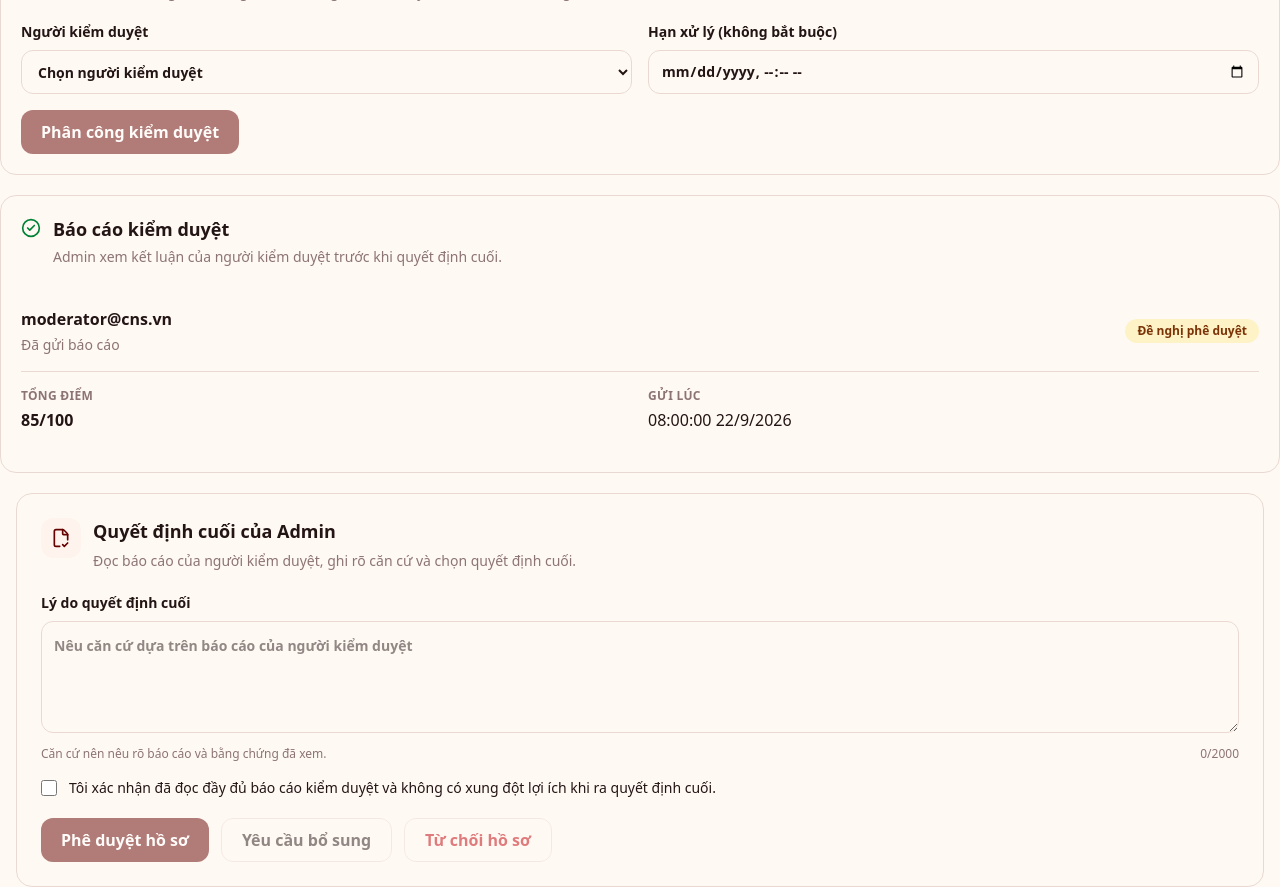
Test: ReviewLifecyclePanel › explains what follows a supplement request
(page scrolled)
Type "Vui lòng bổ sung tài liệu nguồn gốc." into the text box labelled "Lý do quyết định cuối".
click(640, 677); type("Vui lòng bổ sung tài liệu nguồn gốc.")  # box left=41, top=621, right=1239, bottom=733
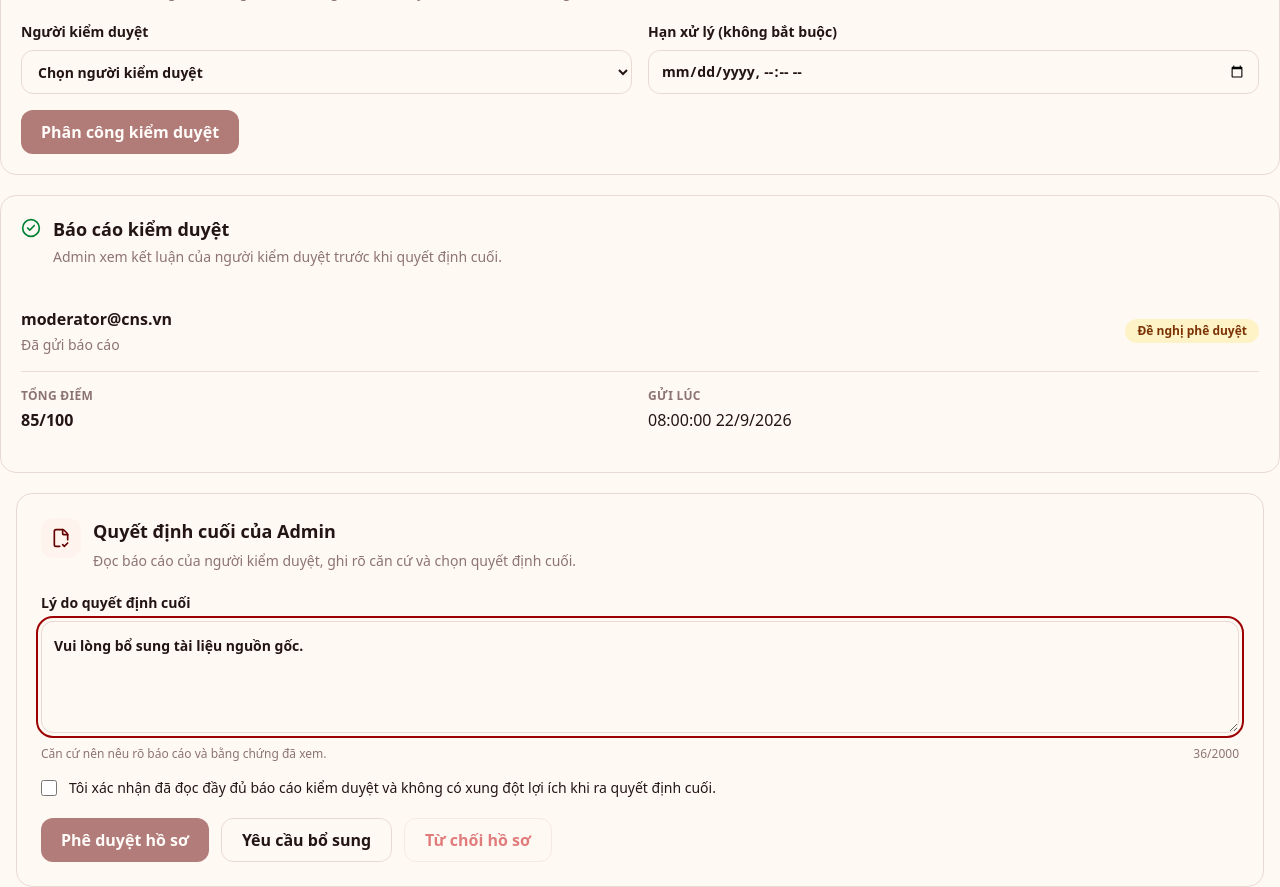
Click the button "Yêu cầu bổ sung".
click(306, 840)  # box left=221, top=818, right=392, bottom=862
(page scrolled)
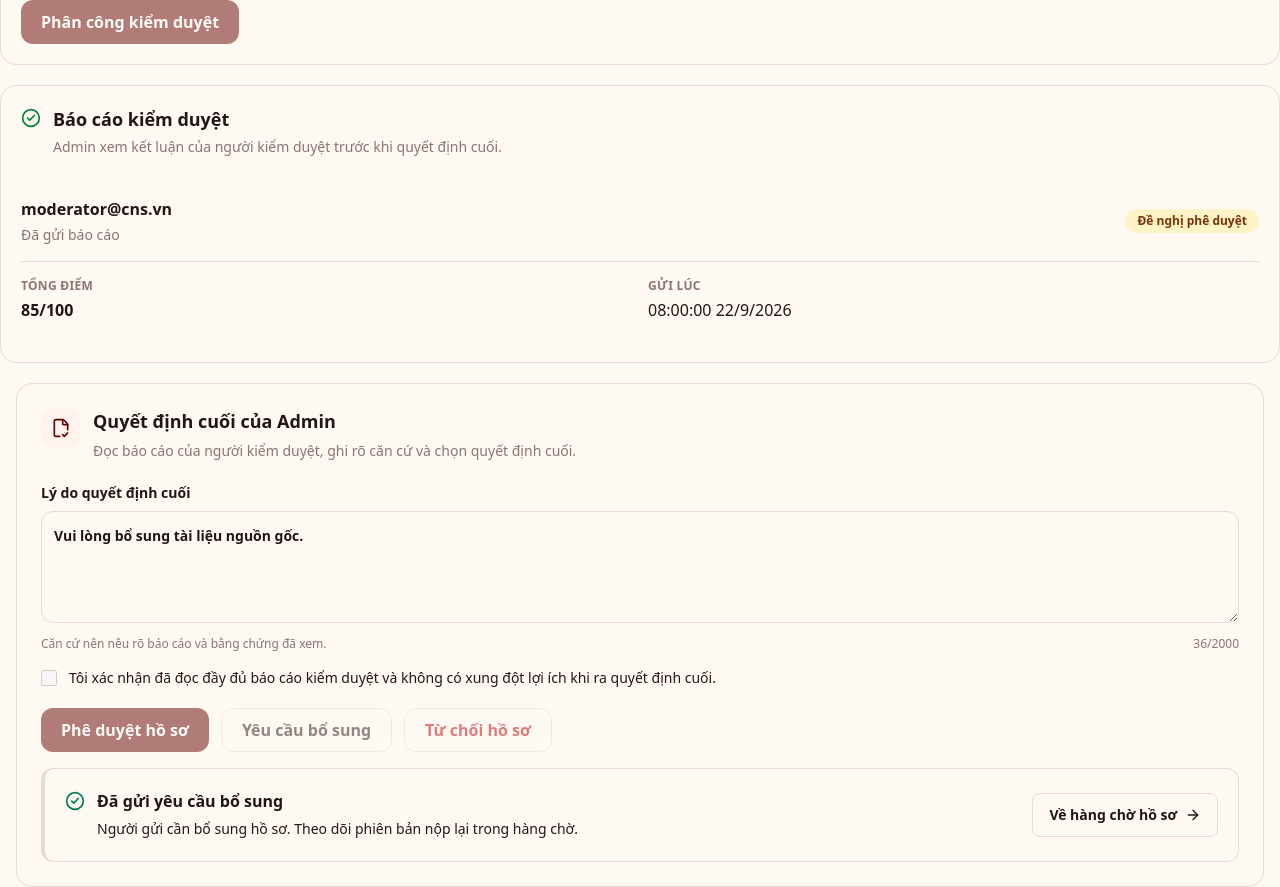
Result: the heading "Đã gửi yêu cầu bổ sung" is shown at left=97, top=790, right=283, bottom=812
Result: the text "Người gửi cần bổ sung hồ sơ" is shown at left=97, top=819, right=578, bottom=838
